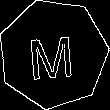M_N: (28, 27, 79, 81)
